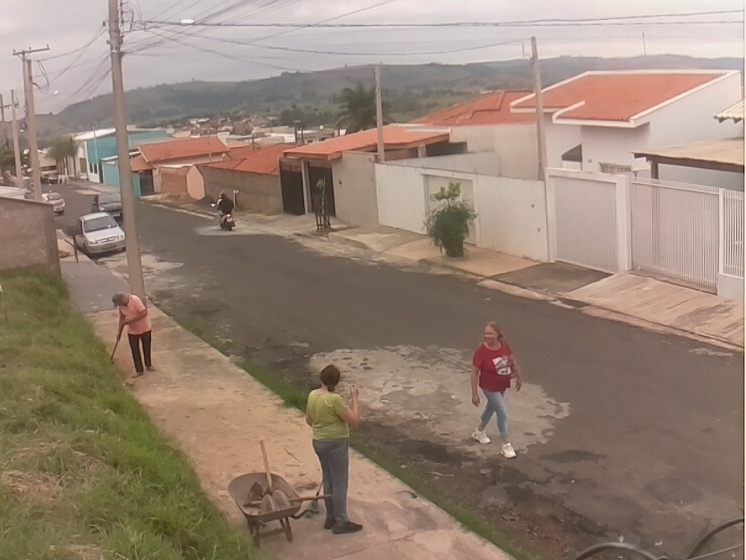person: (304, 363, 366, 535), (469, 320, 524, 461), (110, 291, 158, 379), (217, 193, 234, 219)
